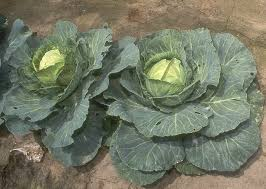cabbage: (131, 46, 210, 112), (22, 45, 89, 107)
